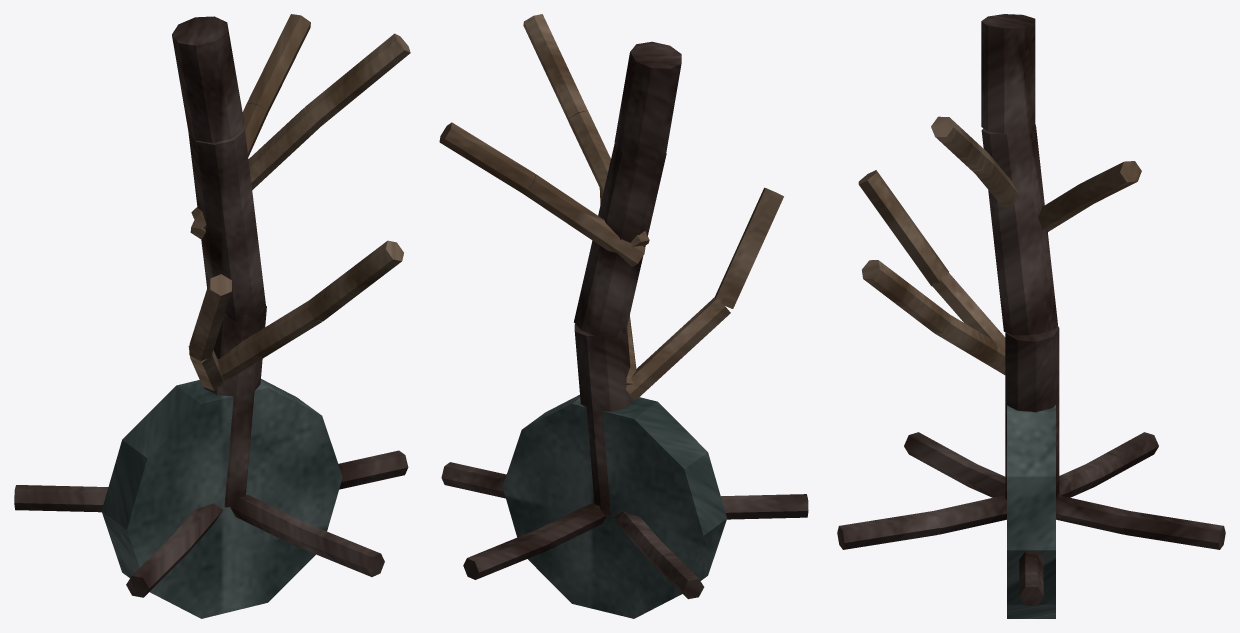
The model's file is 0126_dead_tree_01.glb.
3 renders of one model, left to right at view 1: azimuth 30°, elevation 25°; view 2: azimuth 150°, elevation 25°; view 3: azimuth 270°, elevation 25°, orthographic. The views are drawn at different scales.
Parts seen in each view (by area): view 1: stone_dark, wood_dark, wood; view 2: stone_dark, wood_dark, wood; view 3: wood_dark, wood, stone_dark.
Boxes of the visible parts, left/top/right/bottom form: stone_dark: left=101, top=379, right=342, bottom=618; wood_dark: left=14, top=16, right=408, bottom=597; wood: left=188, top=14, right=410, bottom=390; stone_dark: left=502, top=394, right=726, bottom=618; wood_dark: left=441, top=41, right=808, bottom=599; wood: left=439, top=14, right=783, bottom=400; wood_dark: left=837, top=14, right=1225, bottom=605; wood: left=858, top=116, right=1141, bottom=374; stone_dark: left=1007, top=405, right=1055, bottom=618.
Size of the model in its own units: 1.66 by 2.83 by 1.75.
Materials: 3 (3 with a texture image).
